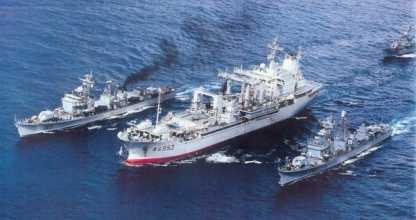warship: (115, 45, 322, 164), (7, 69, 173, 139), (273, 120, 395, 189)
